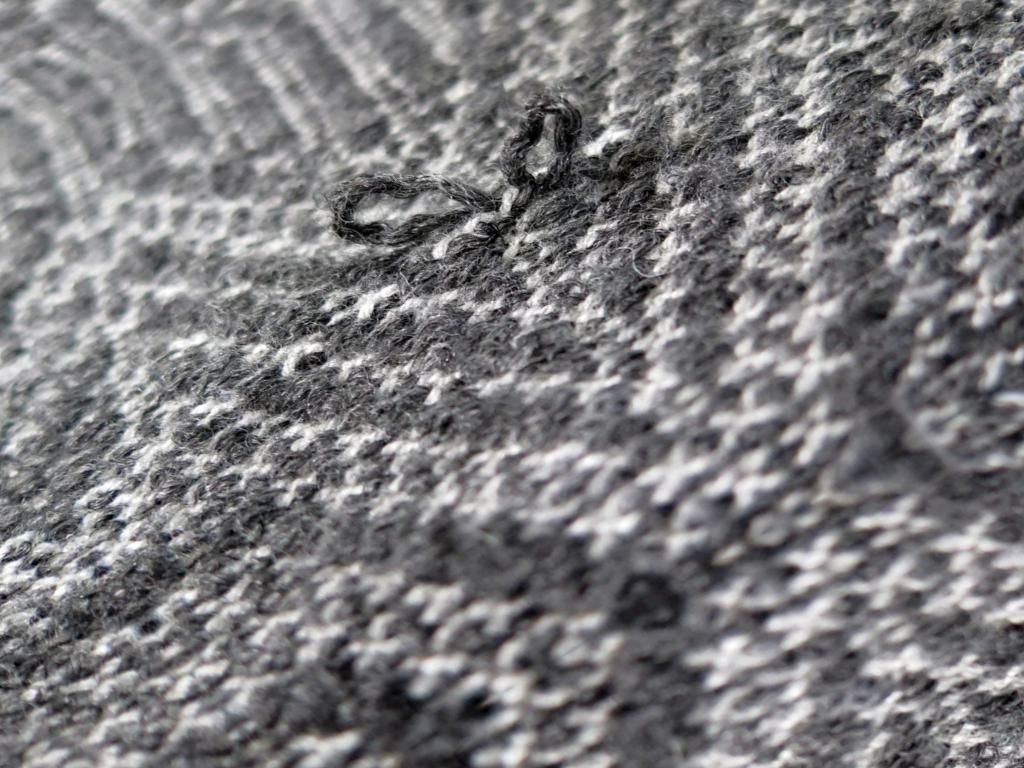snag: (320, 163, 497, 258), (500, 91, 591, 201)
